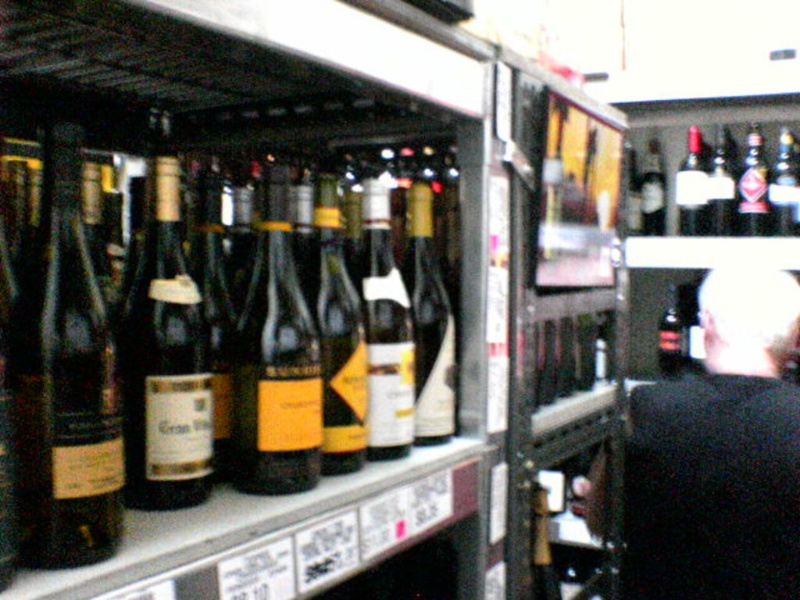wine: (2, 64, 469, 557), (617, 122, 800, 237)
